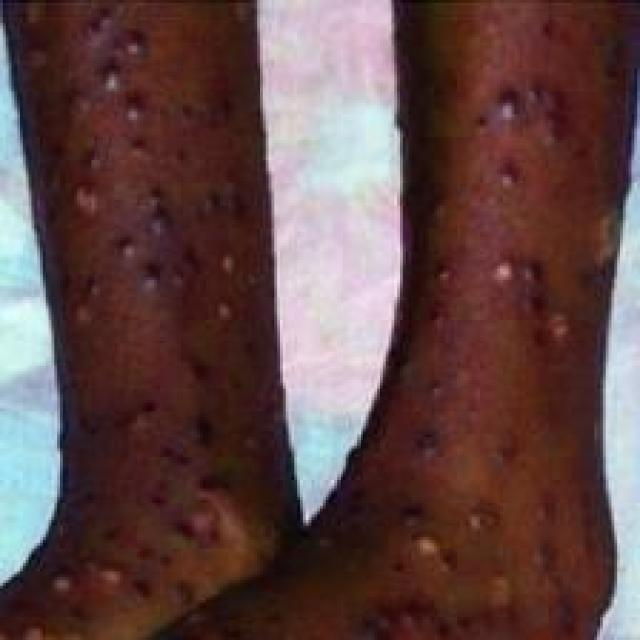monkeypox: (9, 0, 621, 640)
